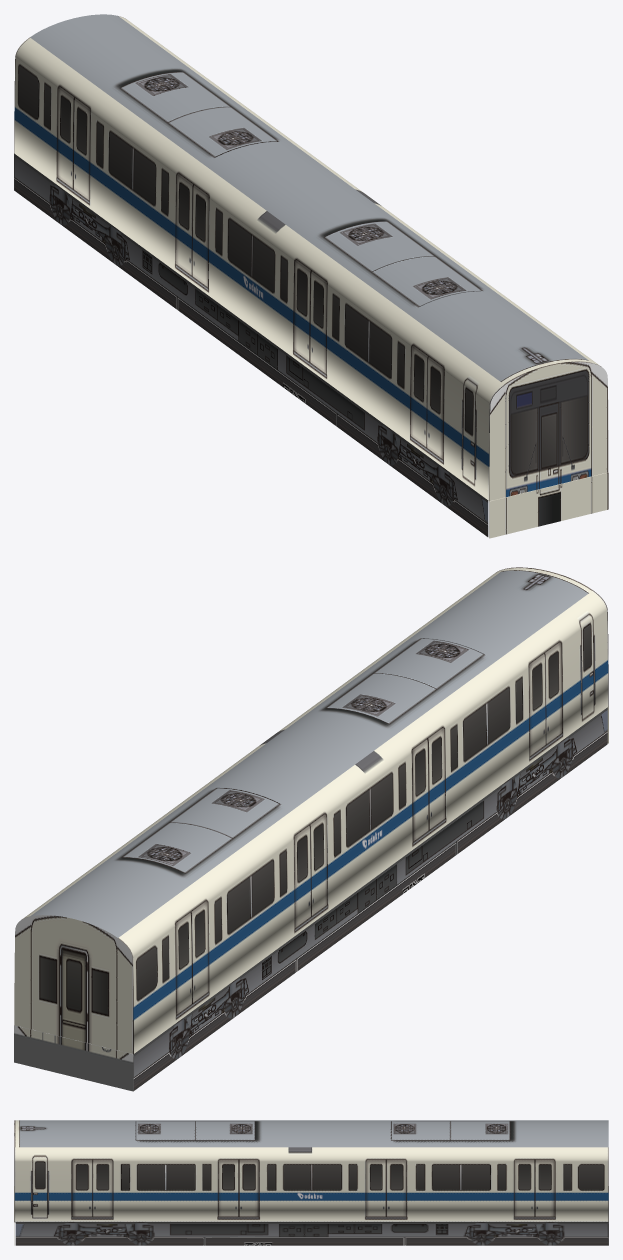
File: car1.glb
The picture shows the model from 3 angles, top to bottom: view 1: azimuth 30°, elevation 25°; view 2: azimuth 150°, elevation 25°; view 3: azimuth 270°, elevation 25°; orthographic projection. The views are drawn at different scales.
Visible parts, largest first — view 1: odakyu-8000-car1; view 2: odakyu-8000-car1; view 3: odakyu-8000-car1.
Boxes of the visible parts, x1,y1,x2,y2 form: odakyu-8000-car1: (14, 14, 608, 538); odakyu-8000-car1: (14, 567, 608, 1091); odakyu-8000-car1: (14, 1120, 608, 1245).
Bounding box in the file's own units: 2.9 × 3.66 × 20.03.
9 materials, 8 textured.
